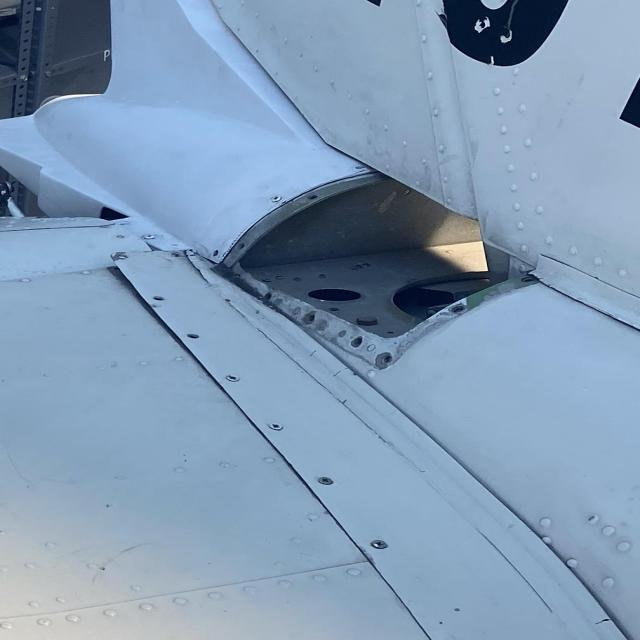Missing-head: (152, 294, 167, 302), (187, 332, 201, 340)
